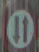Don't turn right: (4, 5, 37, 51)
